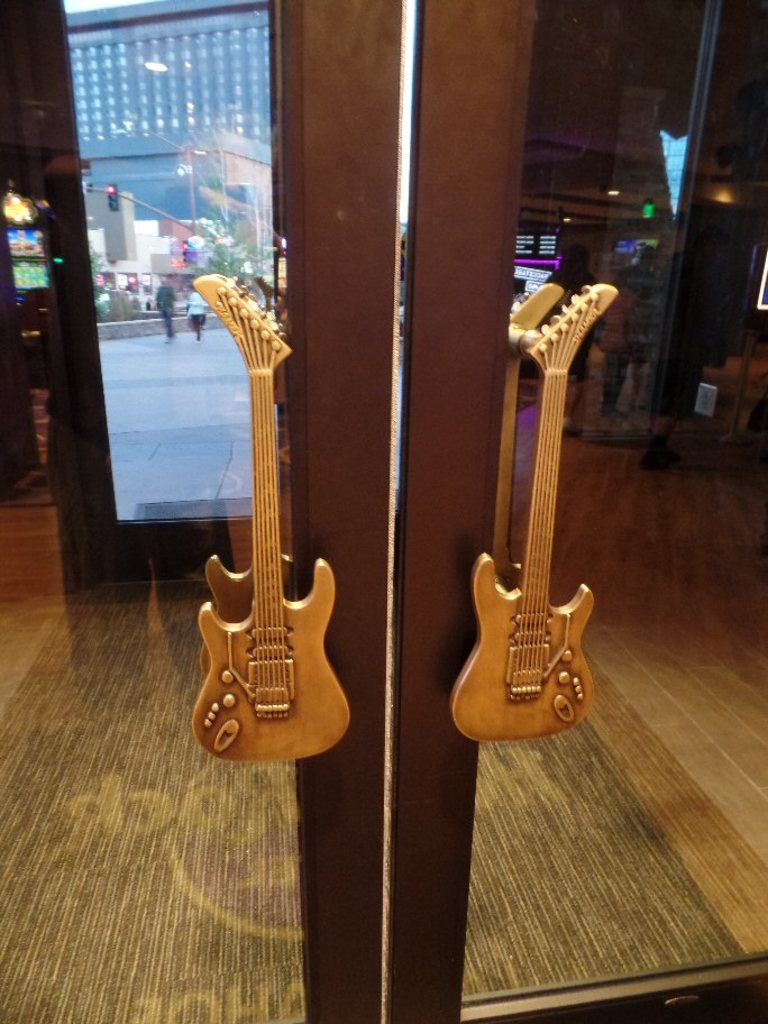person: (508, 239, 616, 548)
